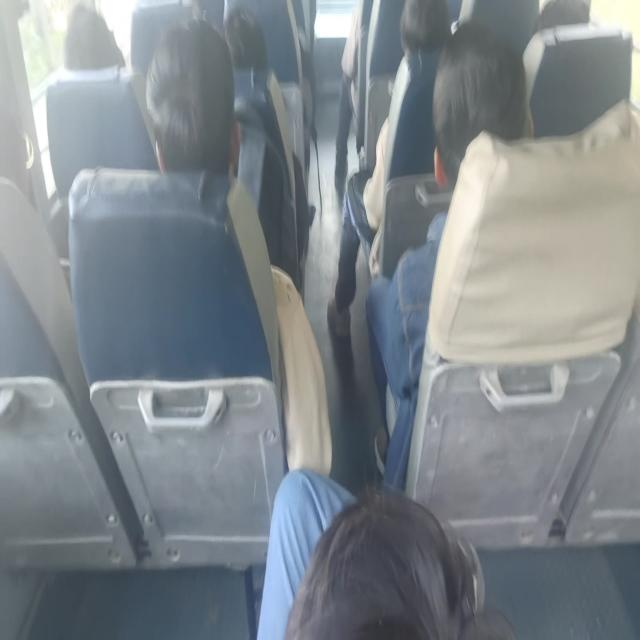person: (144, 17, 332, 474), (364, 19, 534, 485), (256, 467, 512, 638), (326, 0, 452, 340), (224, 5, 312, 294), (144, 18, 241, 177), (63, 1, 126, 71)
